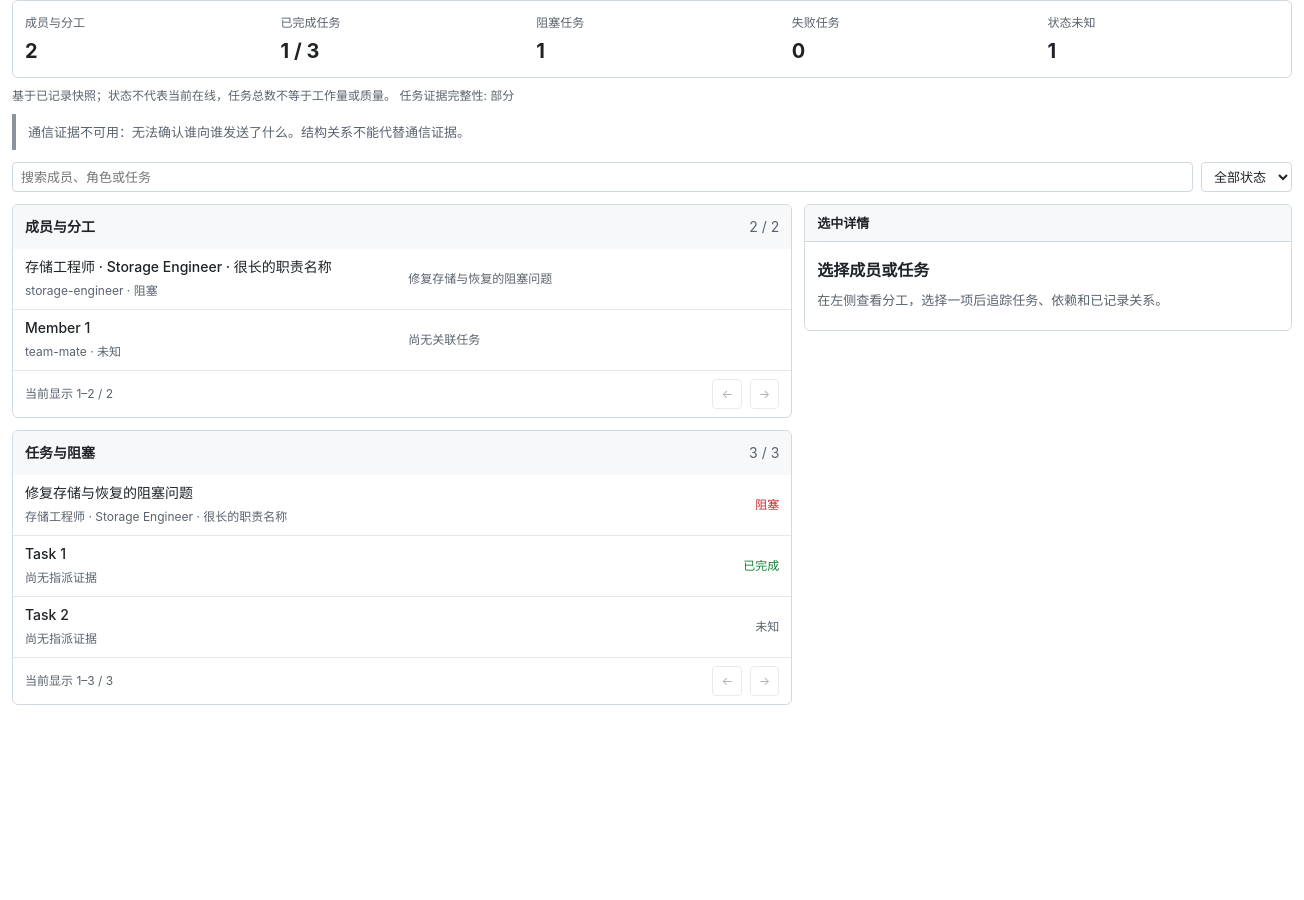
Test: Team workbench observed responsibility and evidence workflow › links member → assigned task → actual owner and prerequisite, without fetching bodies
Click the button with class "tw-member" that starts with "存储工程师 · Storage Engineer · 很长的职责名称": (178, 266) [13,249,791,310]
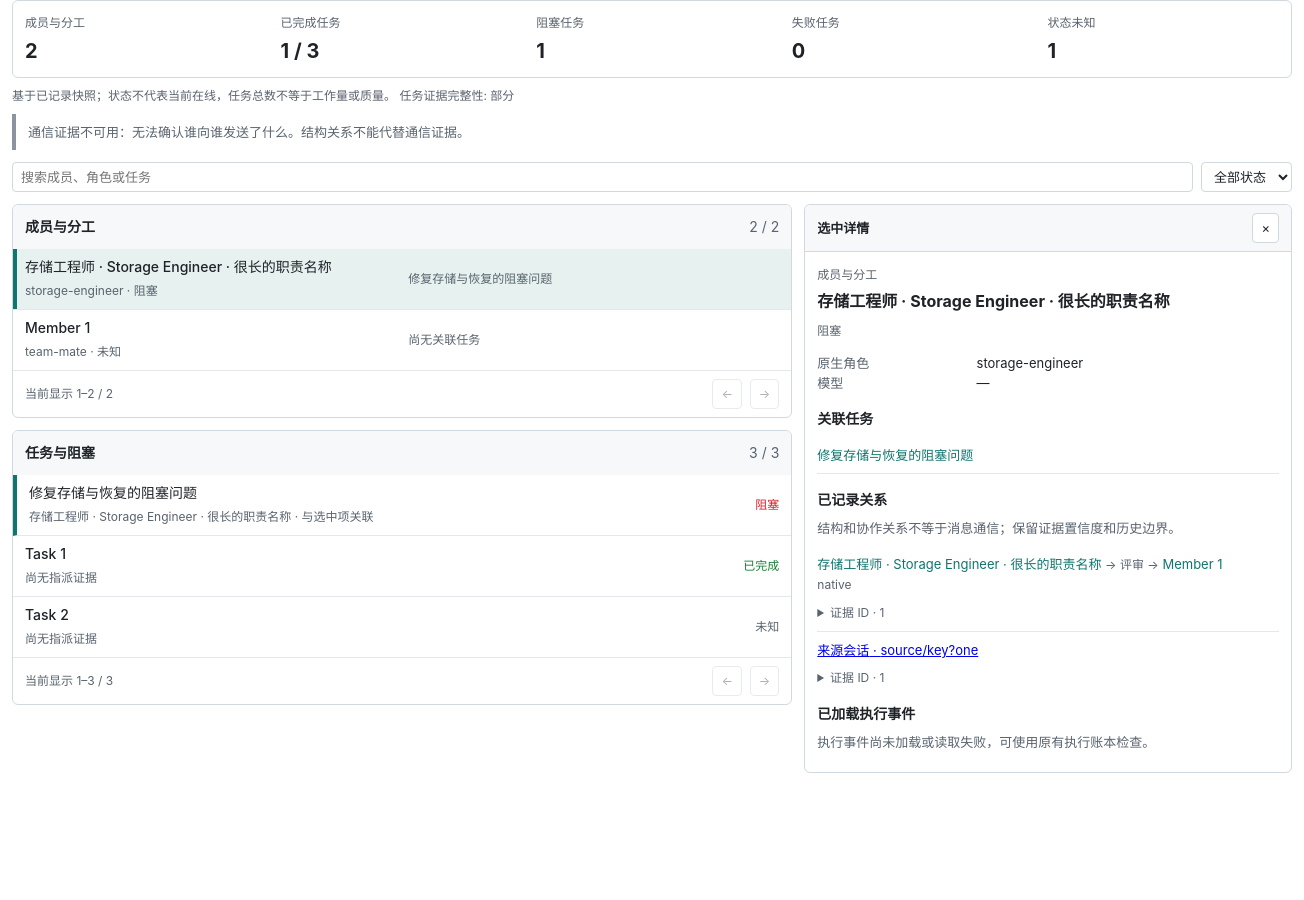
Expected: the button with class "tw-linked" shows "修复存储", [13,475,791,536]
Click the button "修复存储与恢复的阻塞问题": (895, 455) [817,445,973,465]
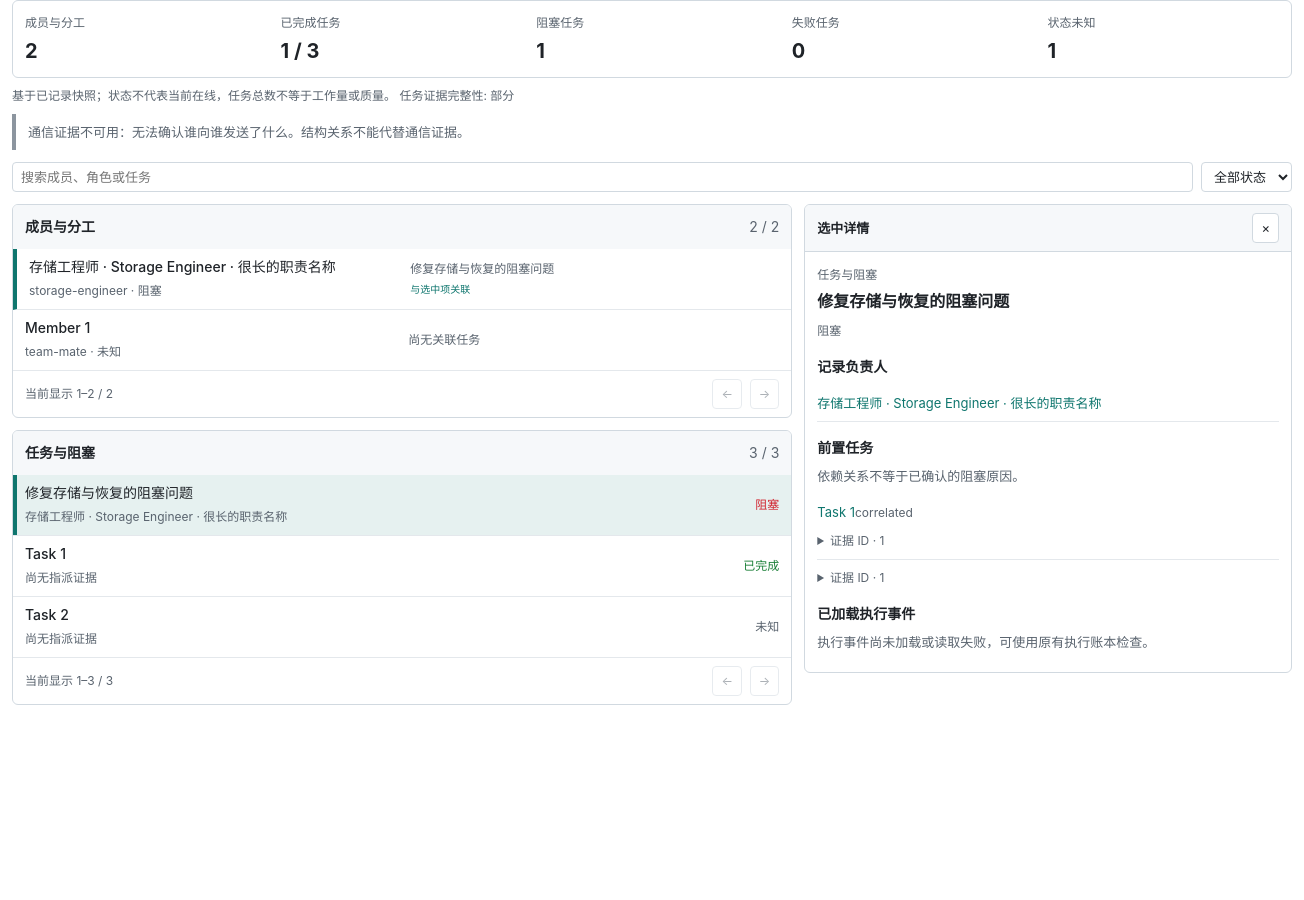
Result: the heading "修复存储与恢复的阻塞问题" is shown at [817,291,1009,311]
Result: the element with class "tw-detail" shows "Task 1" at [817,502,855,522]
Result: the element with class "tw-detail" shows "不等于已确认的阻塞原因" at [817,468,1025,484]
